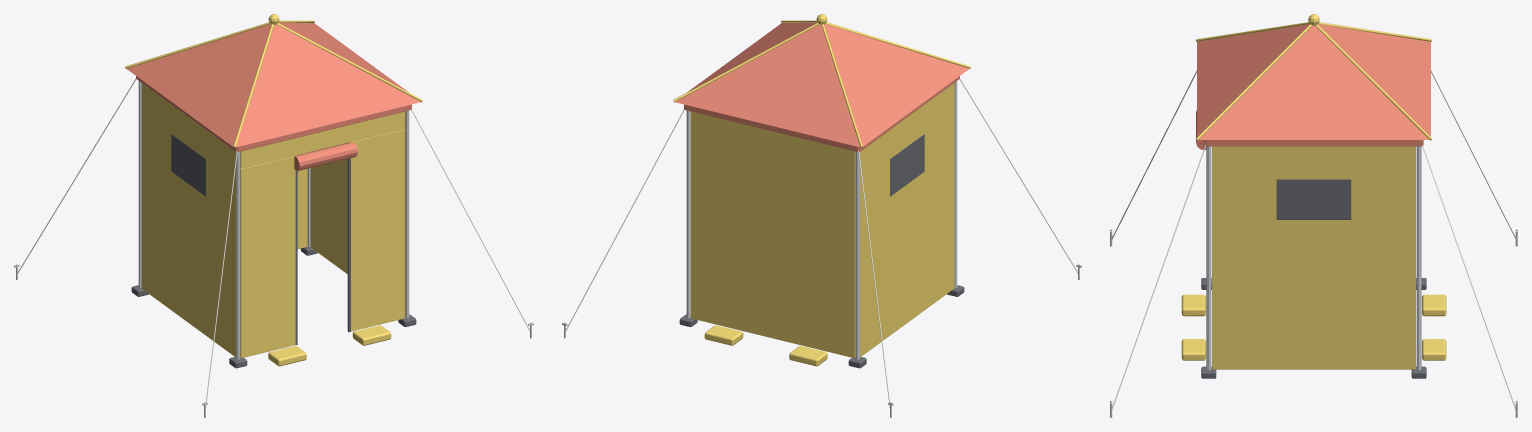
The model's file is beach-surf-and-paddle-kit-pop-up-changing-tent-5762c0fa.glb.
3 renders of one model, left to right at view 1: azimuth 30°, elevation 25°; view 2: azimuth 150°, elevation 25°; view 3: azimuth 270°, elevation 25°, orthographic. The views are drawn at different scales.
Parts seen in each view (by area): view 1: pop-up-changing-tent-sun, pop-up-changing-tent-coral, pop-up-changing-tent-steel, pop-up-changing-tent-charcoal, pop-up-changing-tent-foam; view 2: pop-up-changing-tent-sun, pop-up-changing-tent-coral, pop-up-changing-tent-steel, pop-up-changing-tent-charcoal, pop-up-changing-tent-foam; view 3: pop-up-changing-tent-sun, pop-up-changing-tent-coral, pop-up-changing-tent-charcoal, pop-up-changing-tent-steel, pop-up-changing-tent-foam.
Boxes of the visible parts, left/top/right/bottom form: pop-up-changing-tent-sun: left=125, top=14, right=422, bottom=366; pop-up-changing-tent-coral: left=126, top=22, right=420, bottom=170; pop-up-changing-tent-steel: left=14, top=81, right=533, bottom=417; pop-up-changing-tent-charcoal: left=131, top=134, right=416, bottom=368; pop-up-changing-tent-foam: left=17, top=78, right=529, bottom=407; pop-up-changing-tent-sun: left=673, top=14, right=970, bottom=366; pop-up-changing-tent-coral: left=675, top=22, right=969, bottom=151; pop-up-changing-tent-steel: left=562, top=81, right=1081, bottom=417; pop-up-changing-tent-charcoal: left=679, top=134, right=964, bottom=368; pop-up-changing-tent-foam: left=566, top=78, right=1078, bottom=407; pop-up-changing-tent-sun: left=1181, top=14, right=1446, bottom=369; pop-up-changing-tent-coral: left=1196, top=24, right=1430, bottom=149; pop-up-changing-tent-charcoal: left=1201, top=179, right=1426, bottom=378; pop-up-changing-tent-steel: left=1110, top=146, right=1517, bottom=417; pop-up-changing-tent-foam: left=1111, top=70, right=1516, bottom=409.
Size of the model in its own units: 2.74 by 2.33 by 2.71.
